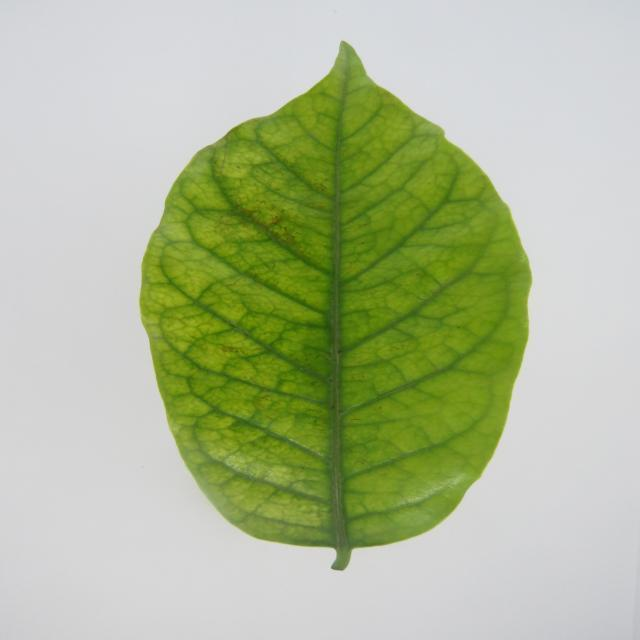DeficienciaNutricional-Hierro: (145, 44, 530, 569)
